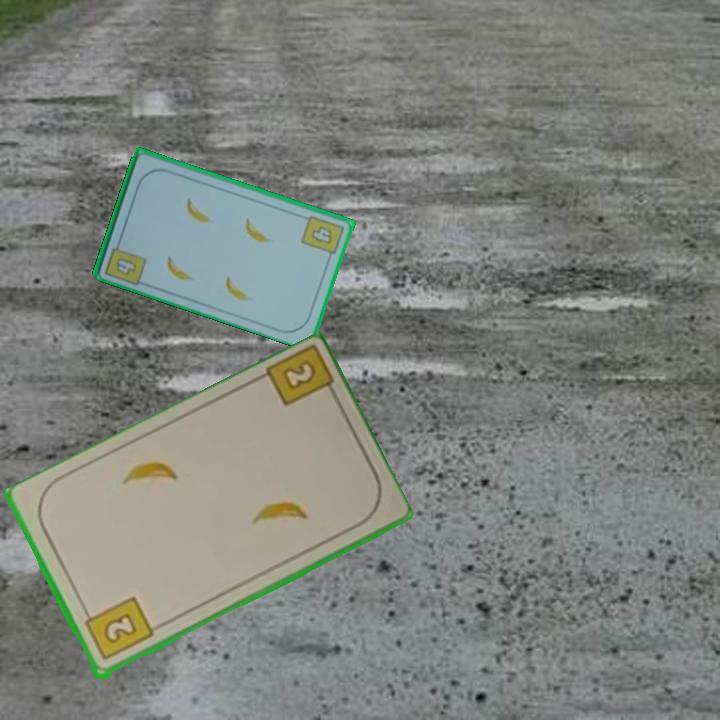2b: (80, 593, 156, 664), (260, 344, 341, 410)
4b: (297, 211, 347, 263), (101, 235, 149, 288)
